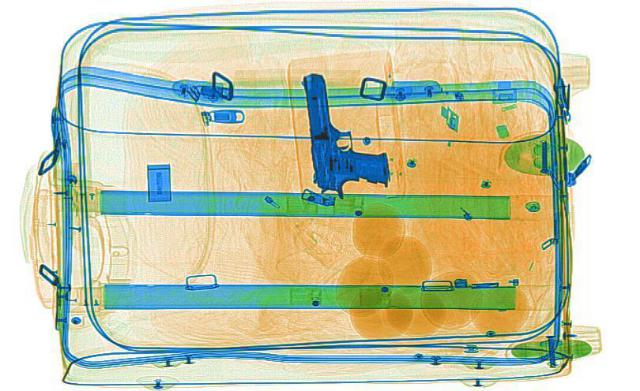Gun: (291, 66, 395, 201)
